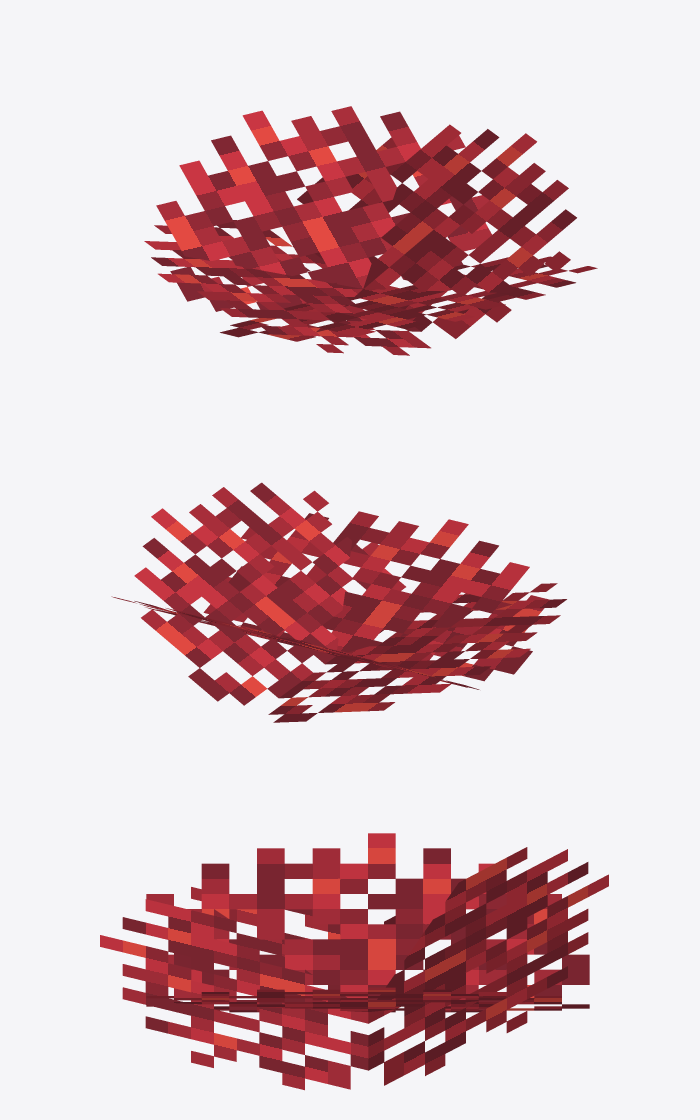
The model's file is Fan.obj.
3 renders of one model, top to bottom at view 1: azimuth 30°, elevation 25°; view 2: azimuth 150°, elevation 25°; view 3: azimuth 270°, elevation 25°, orthographic. The views are drawn at different scales.
Visible parts, largest first — view 1: Fan; view 2: Fan; view 3: Fan.
Part boxes in pixels (bbox=[...]): Fan: bbox=[144, 106, 597, 355]; Fan: bbox=[111, 482, 566, 722]; Fan: bbox=[100, 833, 608, 1090].
Size of the model in its own units: 0.9481 by 0.259 by 0.9481.
Materials: 1 (1 with a texture image).
